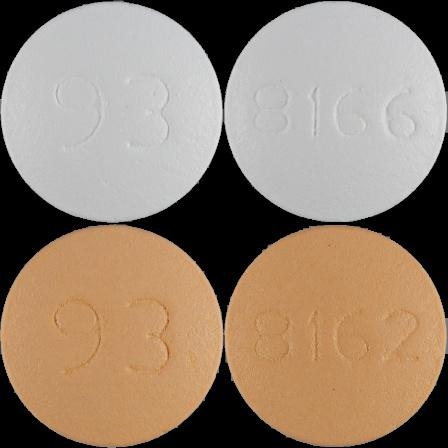0615-7724: (0, 0, 224, 224)
